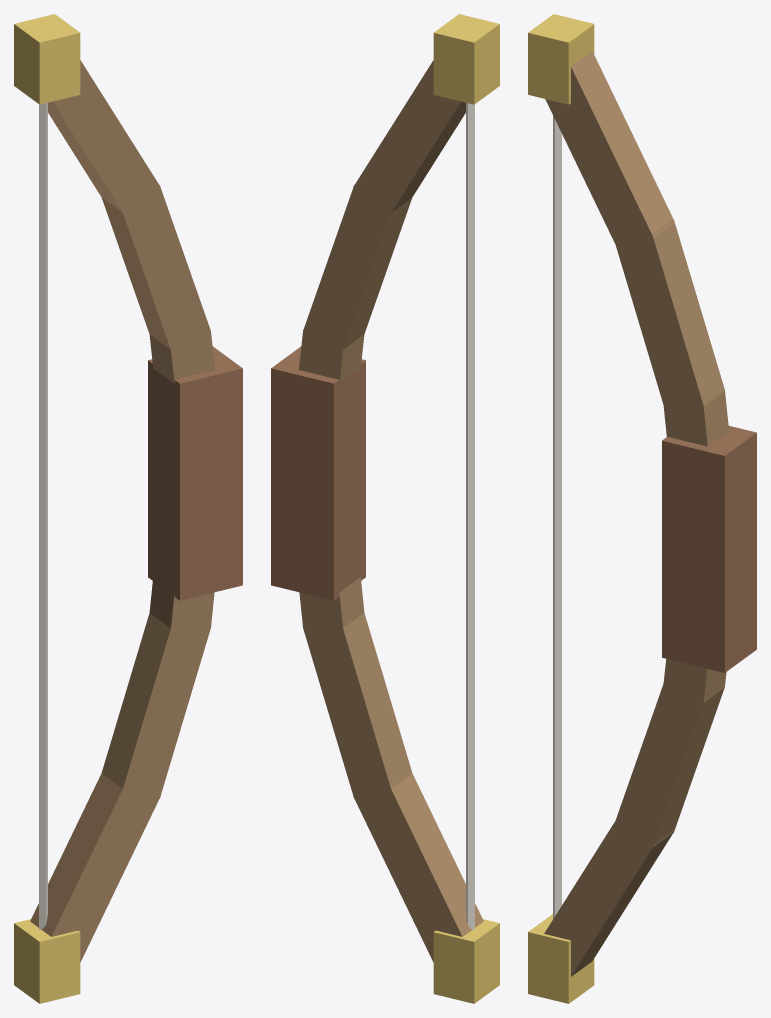
Rendered from bow.glb.
3 views of the same model, side by side, from view 1: azimuth 30°, elevation 25°; view 2: azimuth 150°, elevation 25°; view 3: azimuth 330°, elevation 25° (orthographic).
Visible parts, largest first — view 1: bow_grip, bow_stave_1, bow_stave_0, bow_stave_4, bow_string, bow_stave_5, bow_nock_1, bow_nock_0, bow_stave_3, bow_stave_2; view 2: bow_grip, bow_stave_1, bow_stave_0, bow_stave_4, bow_string, bow_stave_5, bow_nock_1, bow_nock_0, bow_stave_3, bow_stave_2; view 3: bow_grip, bow_stave_4, bow_stave_5, bow_stave_1, bow_stave_0, bow_string, bow_nock_1, bow_nock_0, bow_stave_3, bow_stave_2.
Boxes of the visible parts, left/top/right/bottom form: bow_grip: left=148, top=346, right=242, bottom=600; bow_stave_1: left=101, top=613, right=210, bottom=798; bow_stave_0: left=30, top=773, right=160, bottom=962; bow_stave_4: left=102, top=186, right=210, bottom=349; bow_string: left=39, top=103, right=47, bottom=929; bow_stave_5: left=48, top=60, right=160, bottom=216; bow_nock_1: left=14, top=14, right=80, bottom=104; bow_nock_0: left=14, top=919, right=80, bottom=1003; bow_stave_3: left=149, top=330, right=214, bottom=383; bow_stave_2: left=149, top=577, right=214, bottom=633; bow_grip: left=271, top=346, right=365, bottom=600; bow_stave_1: left=303, top=613, right=412, bottom=795; bow_stave_0: left=353, top=773, right=483, bottom=962; bow_stave_4: left=303, top=185, right=411, bottom=349; bow_string: left=466, top=103, right=474, bottom=929; bow_stave_5: left=353, top=60, right=465, bottom=216; bow_nock_1: left=433, top=14, right=499, bottom=104; bow_nock_0: left=433, top=919, right=499, bottom=1003; bow_stave_3: left=299, top=330, right=364, bottom=383; bow_stave_2: left=299, top=577, right=364, bottom=633; bow_grip: left=662, top=426, right=756, bottom=672; bow_stave_4: left=614, top=219, right=724, bottom=410; bow_stave_5: left=545, top=51, right=674, bottom=249; bow_stave_1: left=614, top=679, right=724, bottom=847; bow_stave_0: left=544, top=821, right=674, bottom=976; bow_string: left=553, top=115, right=561, bottom=918; bow_nock_1: left=528, top=14, right=594, bottom=104; bow_nock_0: left=528, top=914, right=594, bottom=1003; bow_stave_3: left=663, top=389, right=728, bottom=446; bow_stave_2: left=663, top=659, right=726, bottom=702.
Size of the model in its own units: 0.27 by 1.24 by 0.075.
